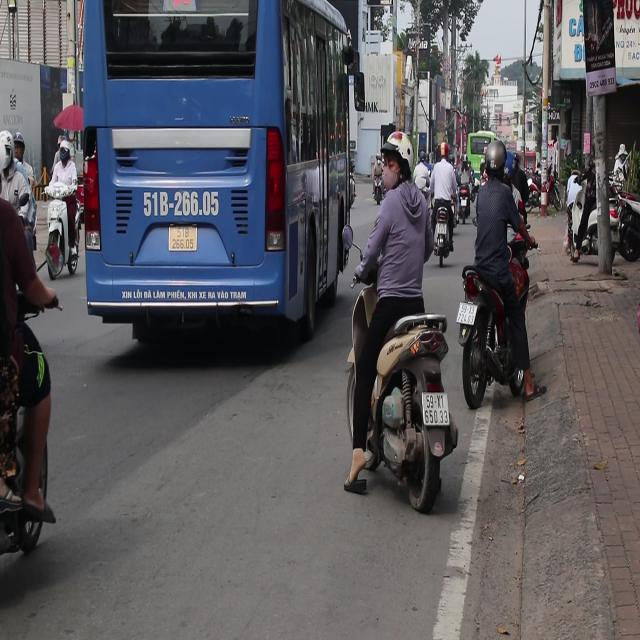bus: (60, 0, 367, 342), (466, 131, 504, 173)
motorbike: (361, 301, 458, 512), (0, 339, 58, 569), (469, 252, 536, 410), (567, 167, 640, 270), (41, 191, 75, 272), (434, 211, 447, 279), (371, 162, 384, 203), (456, 194, 470, 224), (527, 180, 539, 211)
